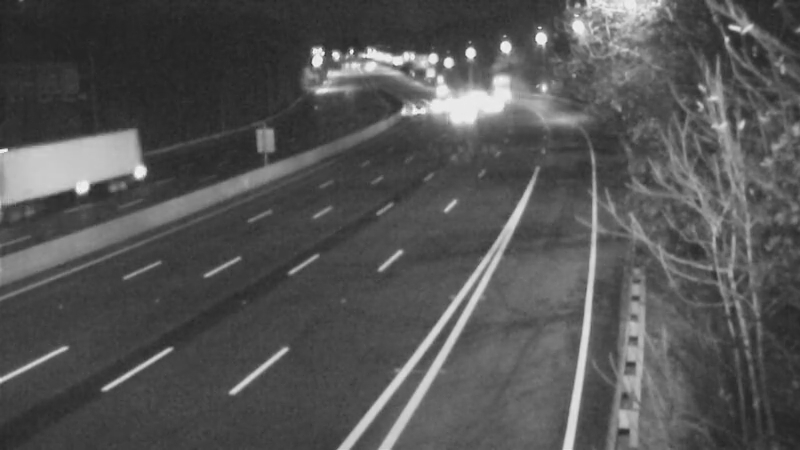vehicle: (17, 153, 97, 233), (476, 60, 526, 110), (417, 66, 467, 116), (460, 81, 510, 131), (433, 80, 483, 130), (434, 88, 484, 138), (395, 80, 445, 130)
